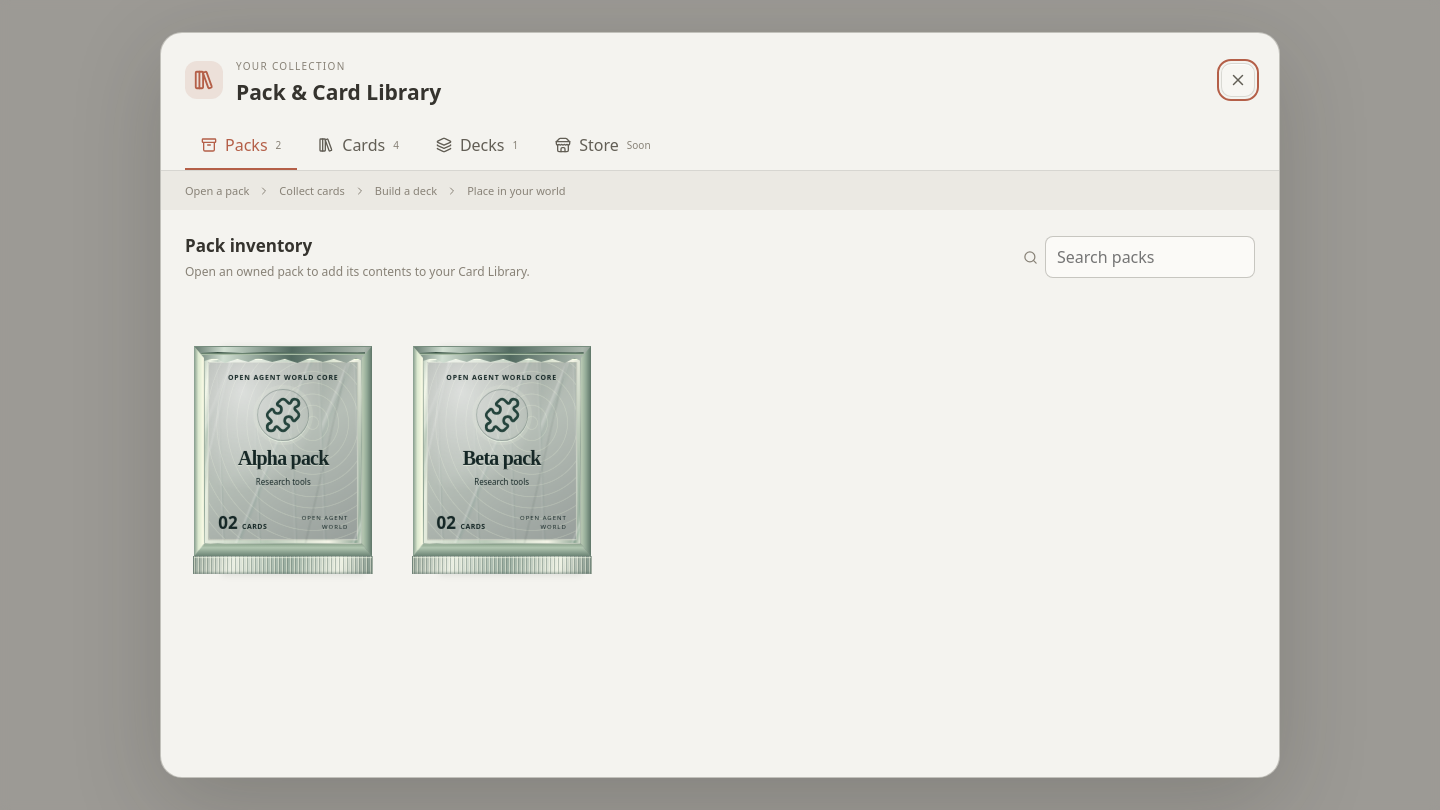
Test: groups by collected pack provenance, deduplicates shared cards and filters by every source
Click the button "Cards 4" at (359,146), box left=302, top=122, right=415, bottom=170
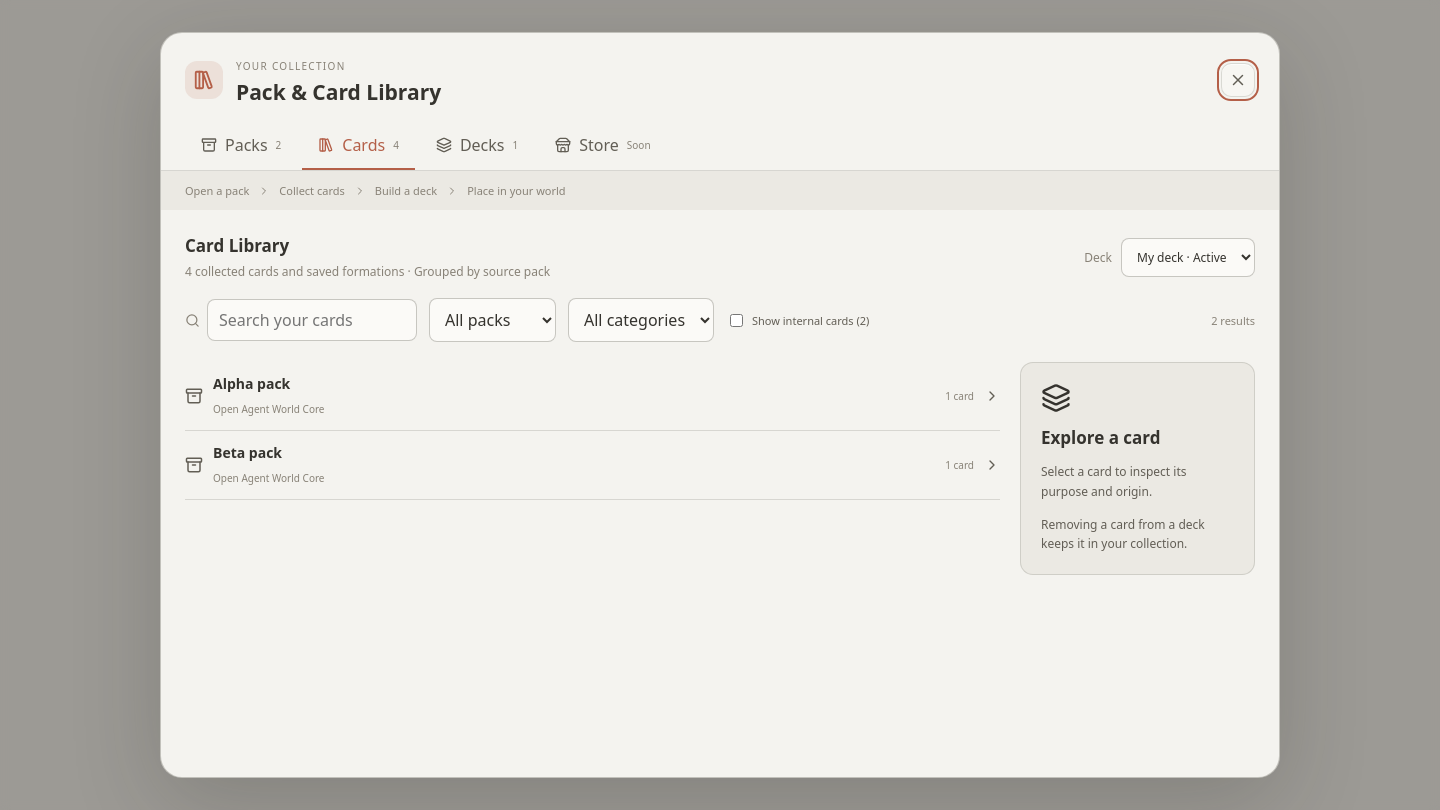
Check: the heading "Alpha pack" is shown, box left=213, top=374, right=290, bottom=393
Check: the heading "Beta pack" is shown, box left=213, top=443, right=282, bottom=462
Click the heading "Alpha pack Open Agent World Core 1 card" at (252,384), box left=185, top=362, right=1000, bottom=431
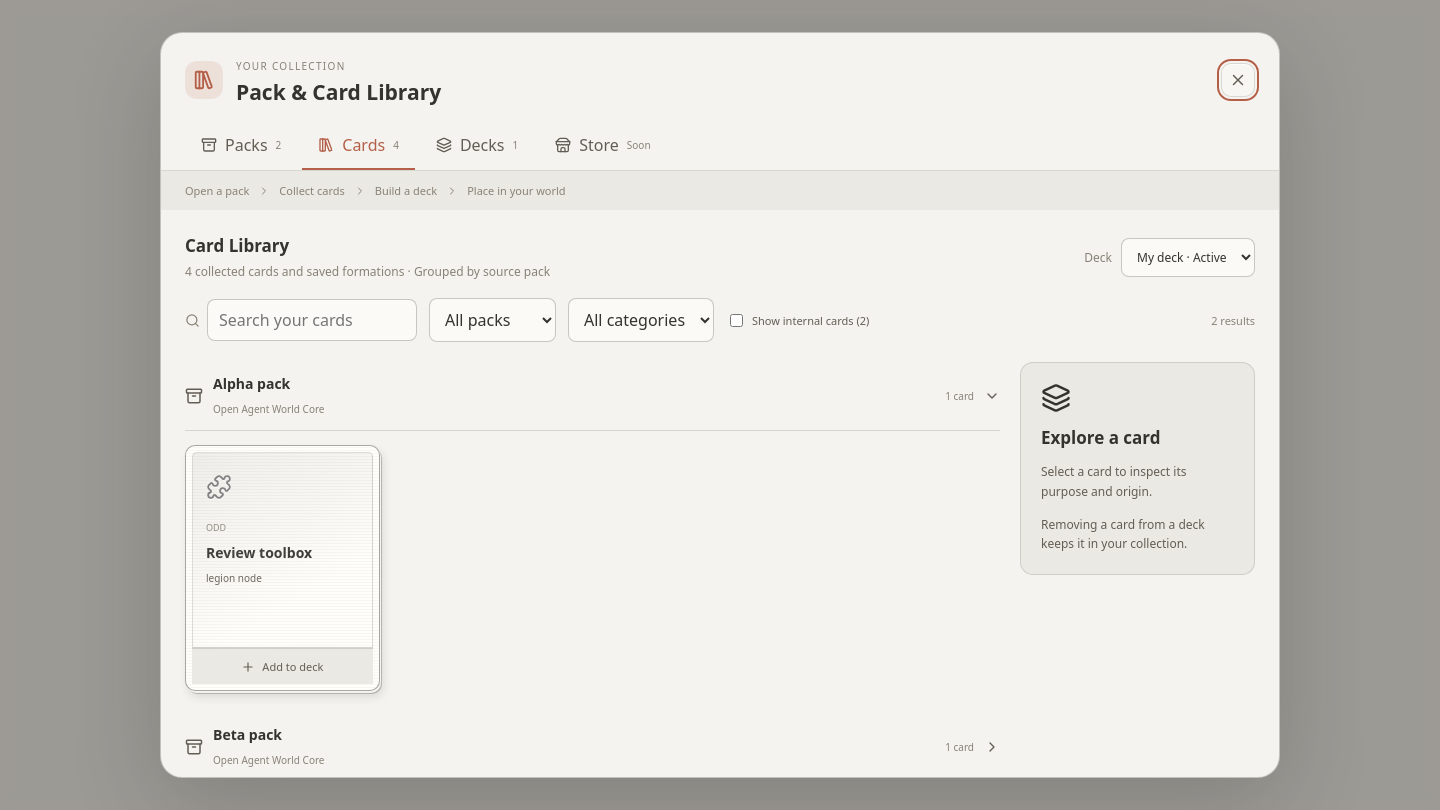
Click the heading "Beta pack Open Agent World Core 1 card" at (248,734), box left=185, top=713, right=1000, bottom=782
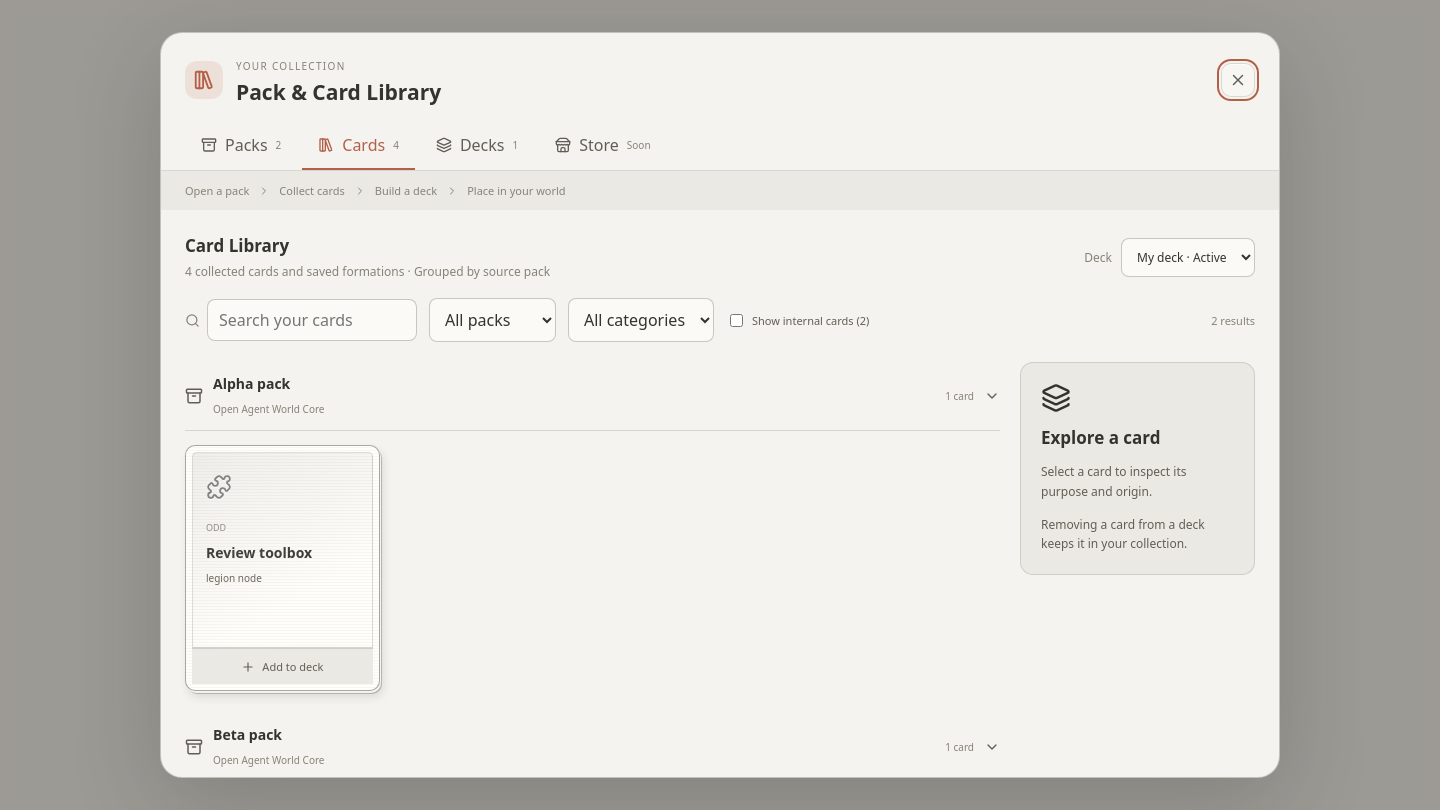
Check: the number of buttons named "Inspect Review toolbox" is 1, box left=192, top=452, right=373, bottom=648
Check: the number of buttons named "Inspect " is 2
Select "Beta pack" in the dropdown named "Source pack" at (492,320), box left=429, top=298, right=556, bottom=342
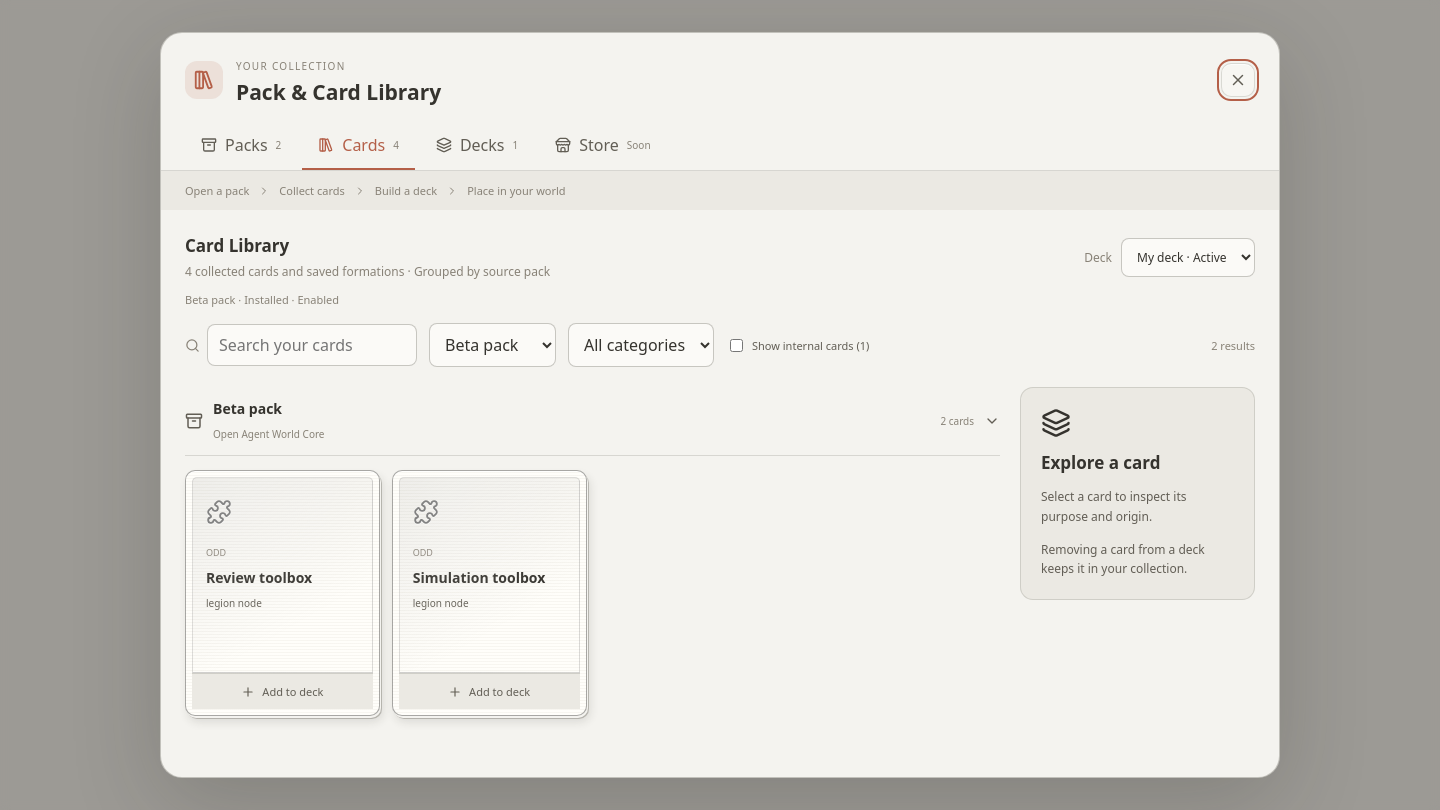
Check: the button with aria-label "Inspect Review toolbox" is shown, box left=192, top=477, right=373, bottom=673
Check: the heading "Alpha pack" is gone
Type "beta pack" into the field named "Search cards" at (312,345), box left=207, top=324, right=417, bottom=366
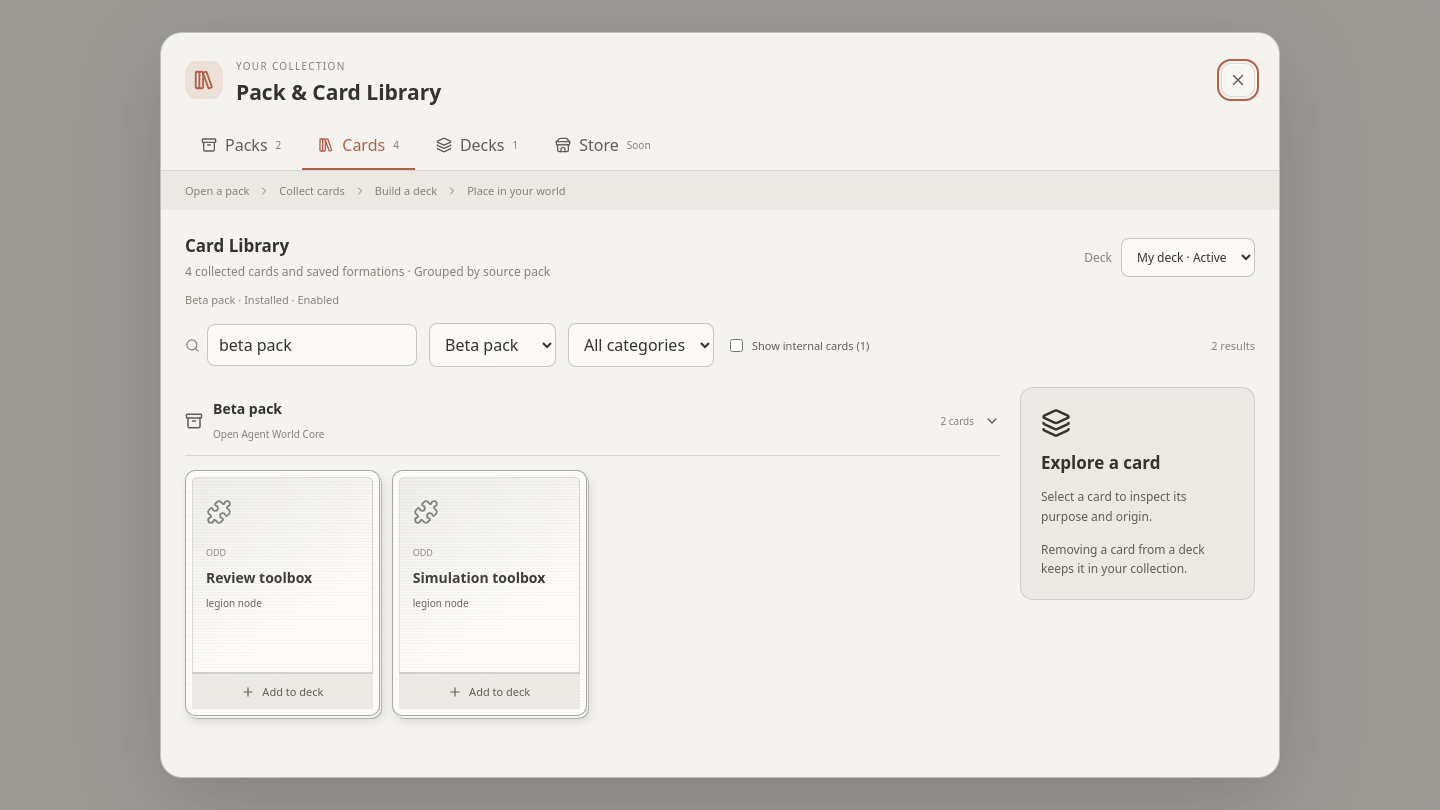
Check: the number of buttons named "Inspect " is 2, box left=192, top=477, right=373, bottom=673; left=399, top=477, right=580, bottom=673
Select "Even" in the dropdown named "Card category" at (641,345), box left=568, top=323, right=714, bottom=367
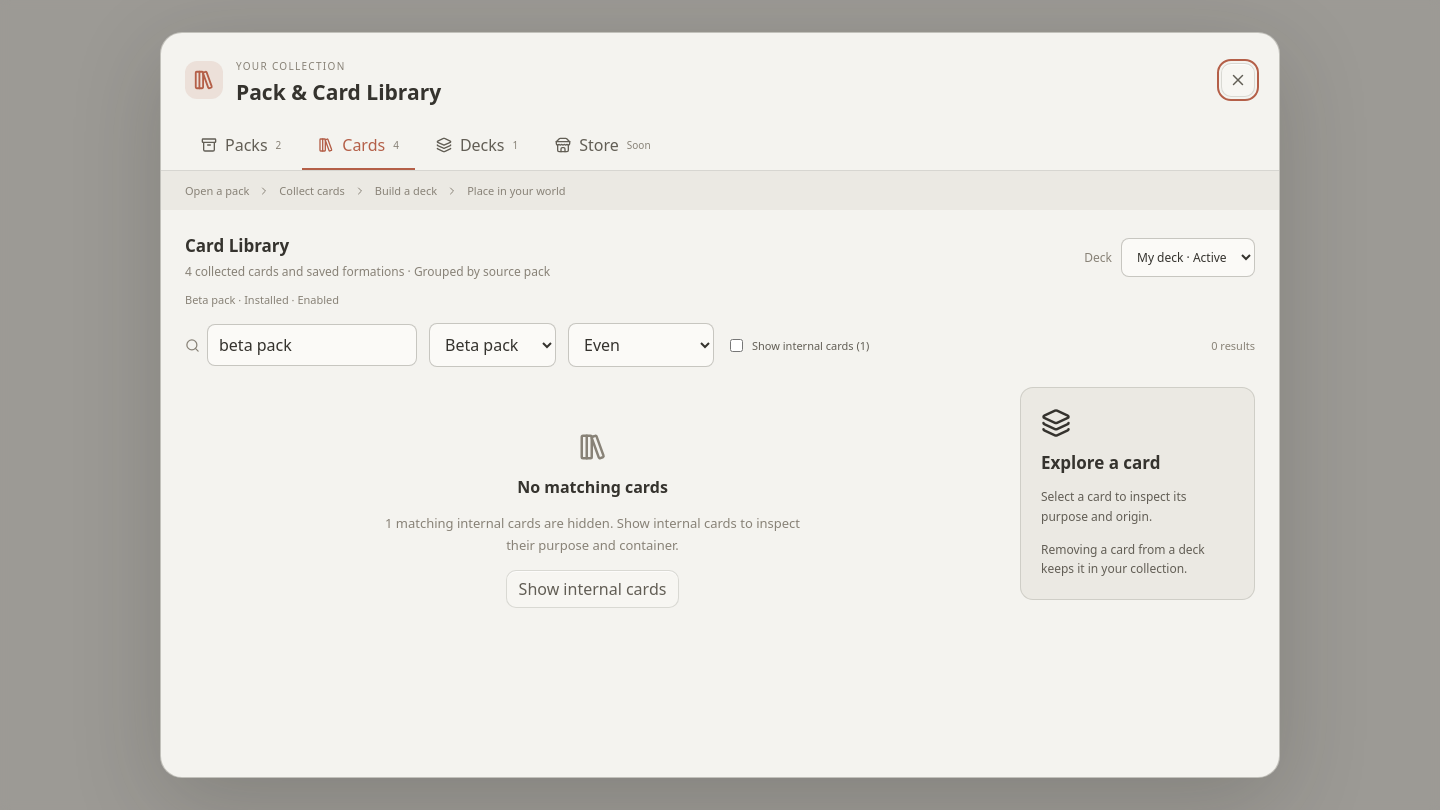
Check: the text "No matching cards" is shown, box left=517, top=476, right=668, bottom=498
Check: the text "1 matching internal cards are hidden" is shown, box left=385, top=514, right=800, bottom=554
